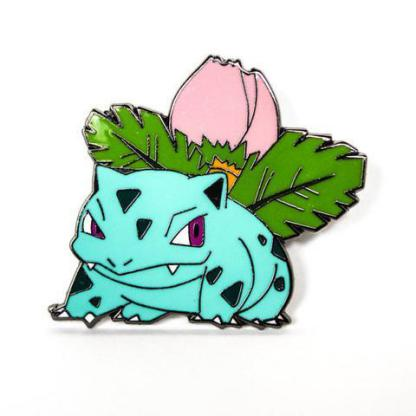Ivysaur: (29, 43, 399, 364)
